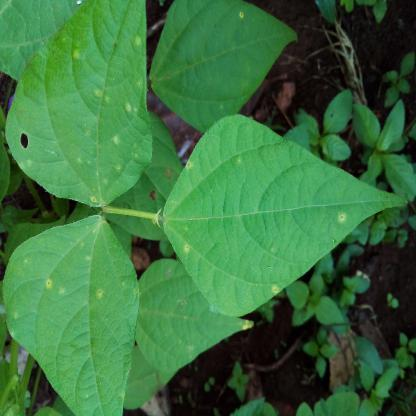Beans_Rust: (160, 114, 406, 316), (6, 0, 148, 206), (0, 212, 139, 414), (147, 0, 298, 129), (124, 261, 254, 399)
